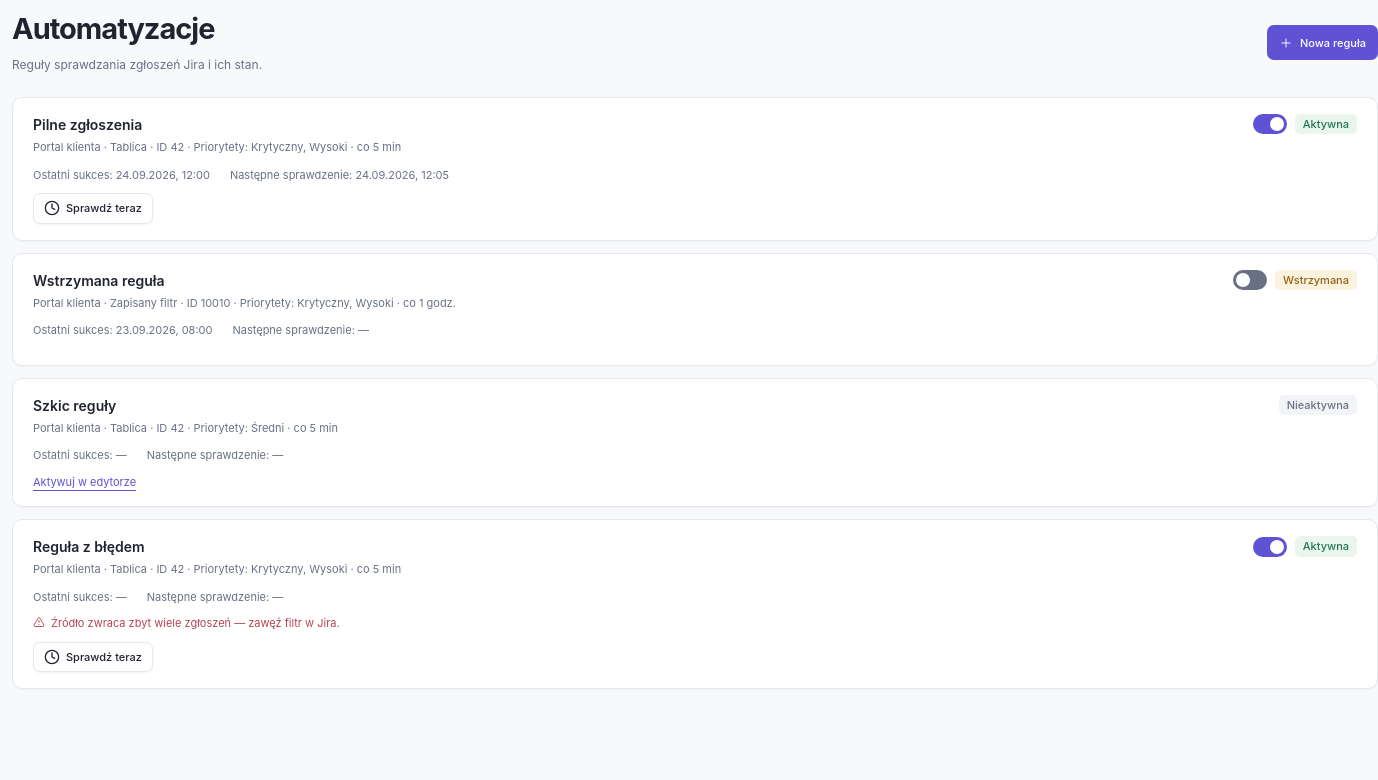
Test case: T24.8 pauza, wznowienie i następny termin z odpowiedzi backendu › nieudana pauza zostawia regułę aktywną i opisuje błąd
Click the switch named "Reguła Pilne zgłoszenia aktywna" at [1270, 124], box [1253, 114, 1287, 134]
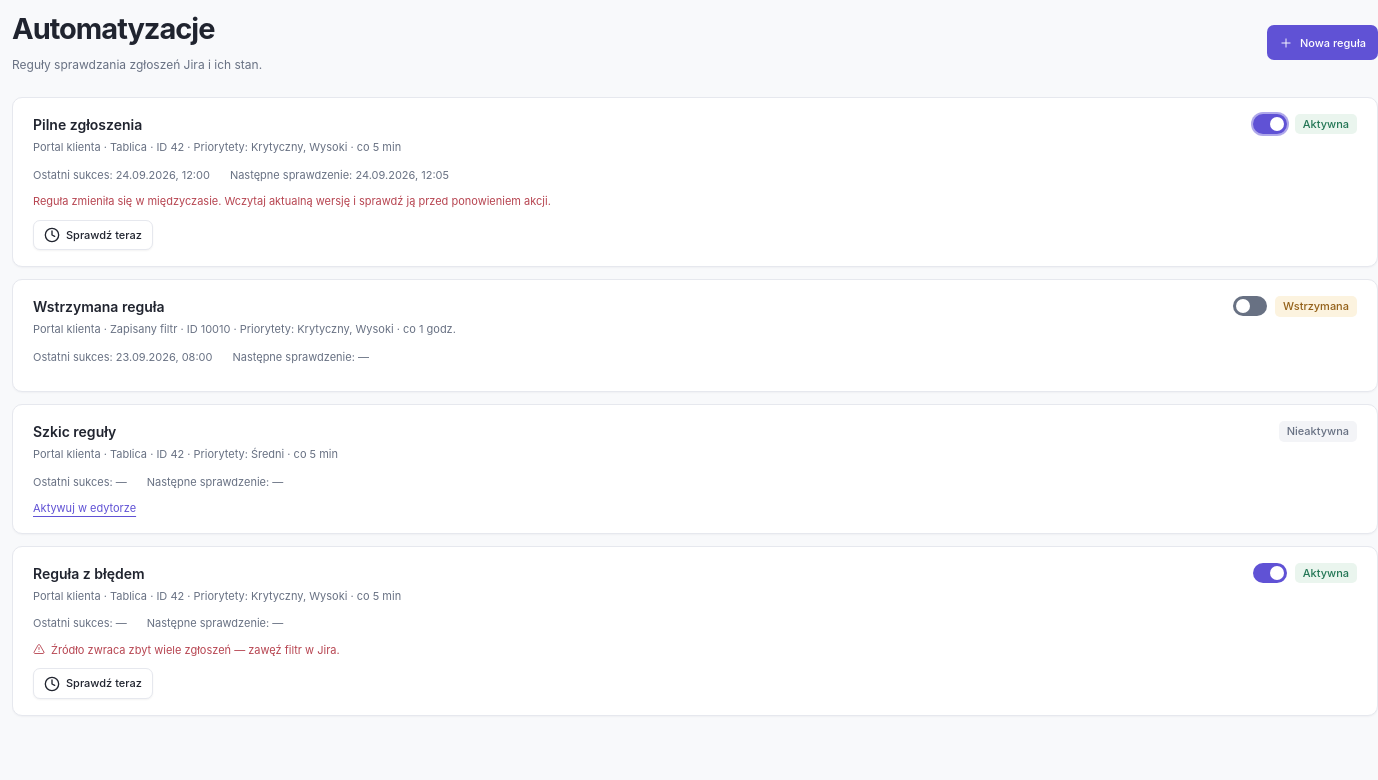
Expected: the message shows "zmieniła się w międzyczasie", [33, 194, 551, 208]
